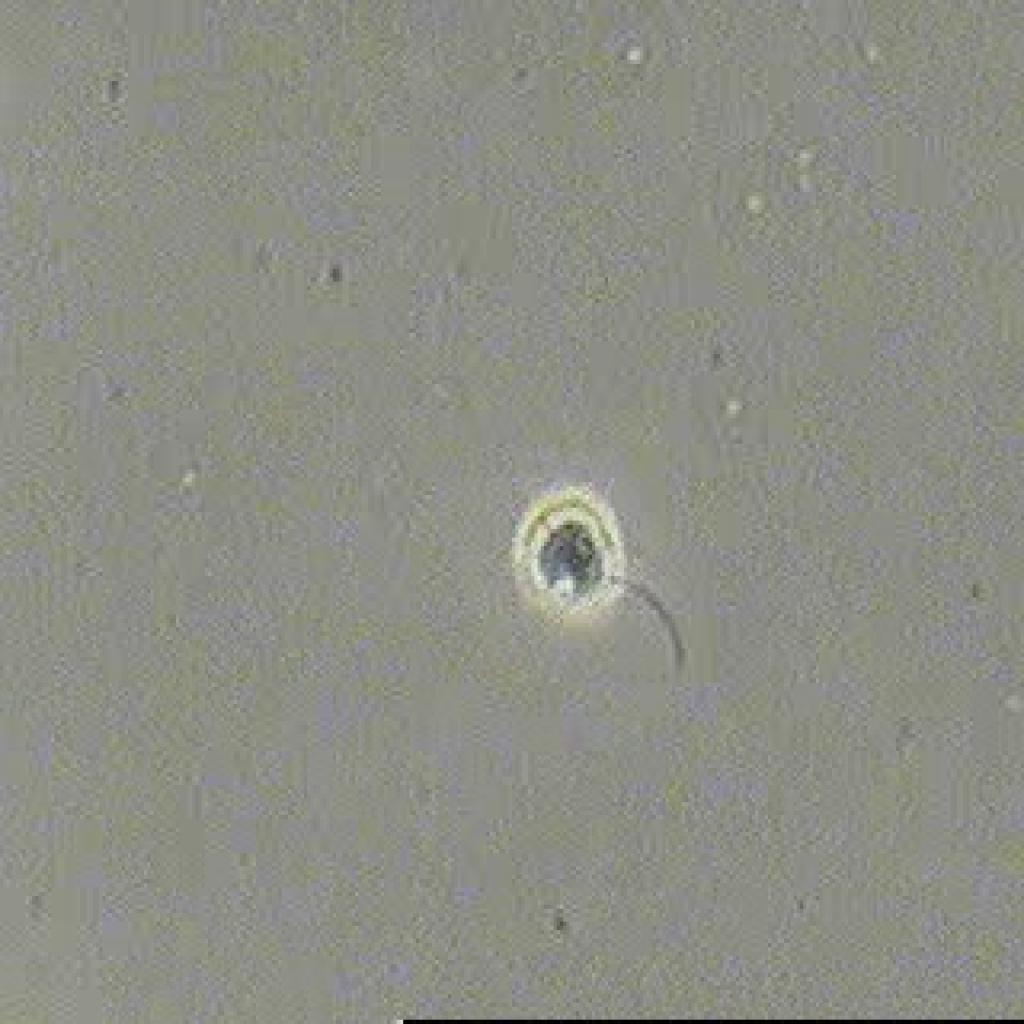Flagellates: (498, 480, 715, 681)
